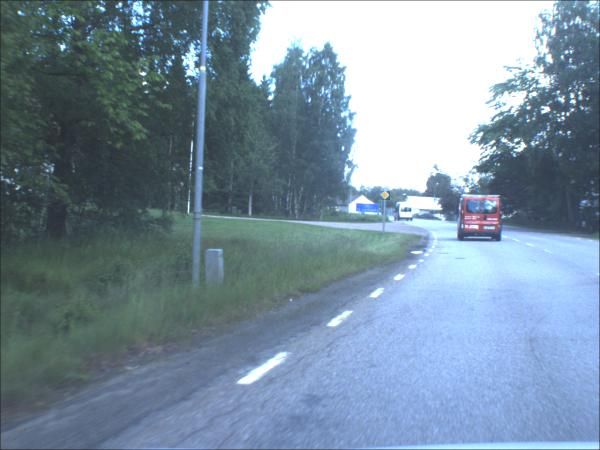PRIORITY_ROAD: (381, 192, 391, 202)
